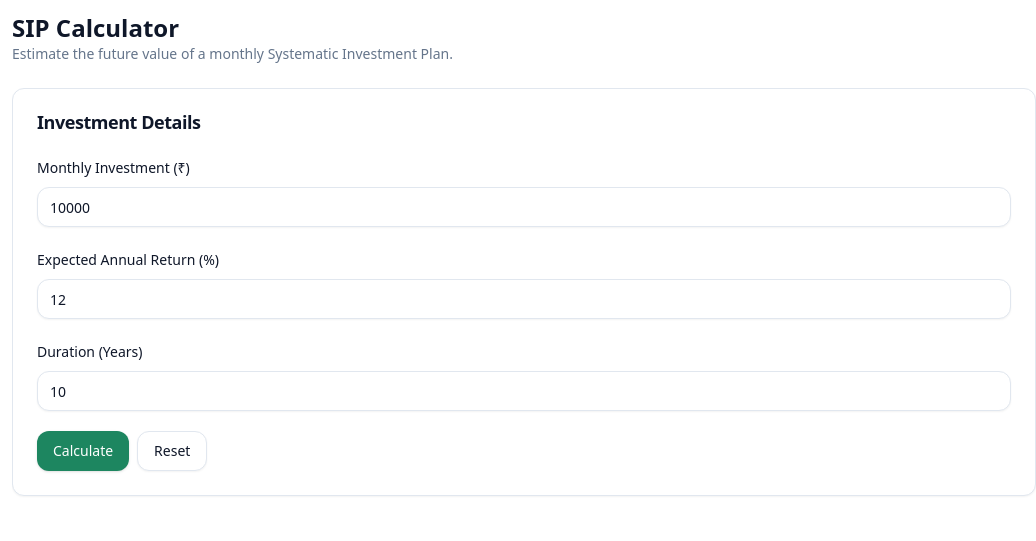
Scenario: SipCalculatorPage › shows a validation error for an out-of-range return
Replace the text in the number field labelled "Expected Annual Return (%)" with "45" at (524, 299), box [37, 279, 1011, 319]
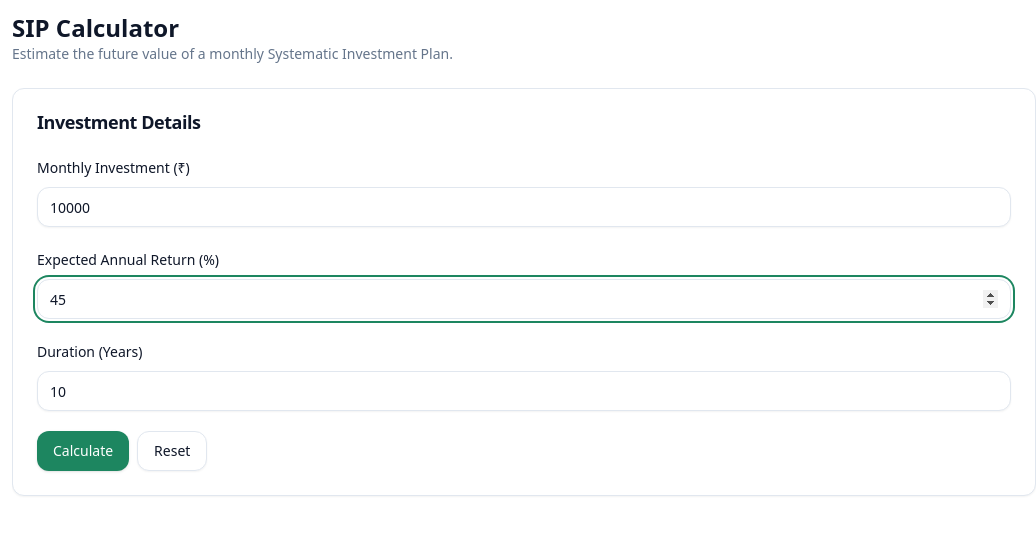
Click the button "Calculate" at (83, 451), box [37, 431, 129, 471]
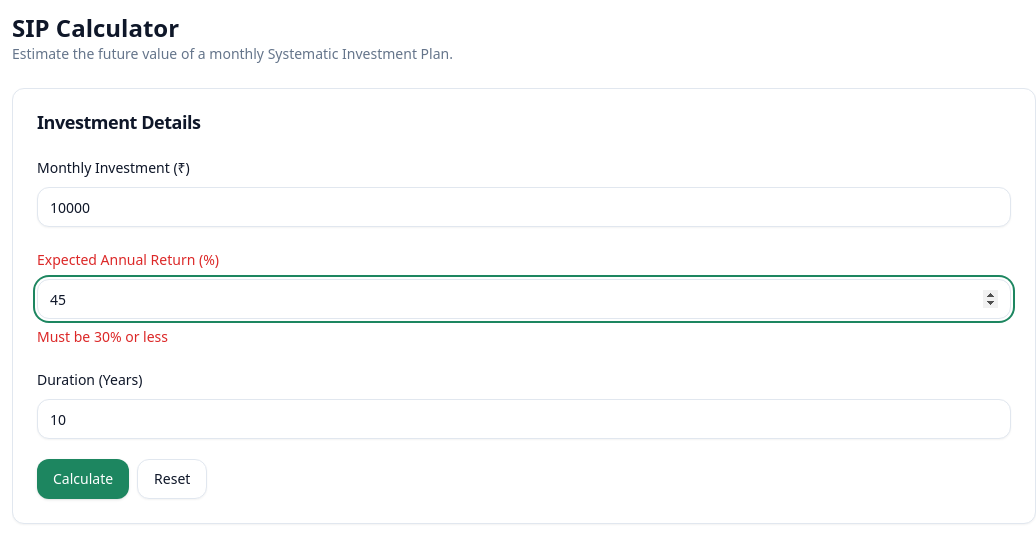
Result: the text "Must be 30% or less" is shown at [37, 327, 168, 346]
